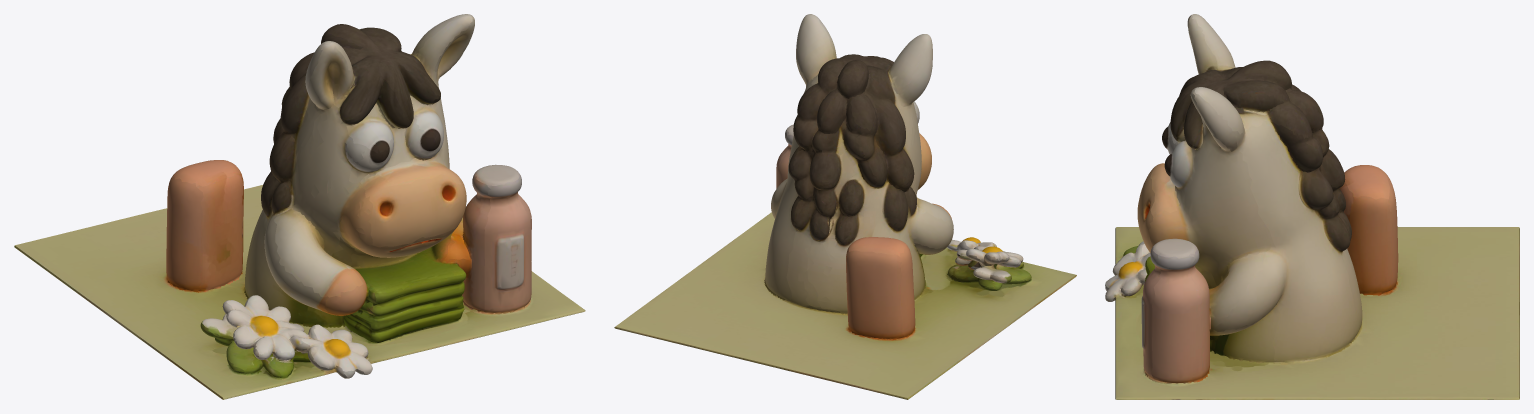
3 renders of one model, left to right at view 1: azimuth 30°, elevation 25°; view 2: azimuth 150°, elevation 25°; view 3: azimuth 270°, elevation 25°, orthographic. The views are drawn at different scales.
Parts seen in each view (by area): view 1: textured_mesh.obj; view 2: textured_mesh.obj; view 3: textured_mesh.obj.
Part boxes in pixels (x1,y1,x2,y2): textured_mesh.obj: (14, 14, 585, 399); textured_mesh.obj: (614, 14, 1076, 399); textured_mesh.obj: (1105, 14, 1519, 399).
Bounding box in the file's own units: 1.95 × 1.53 × 1.99.
Materials: 1 (1 with a texture image).
